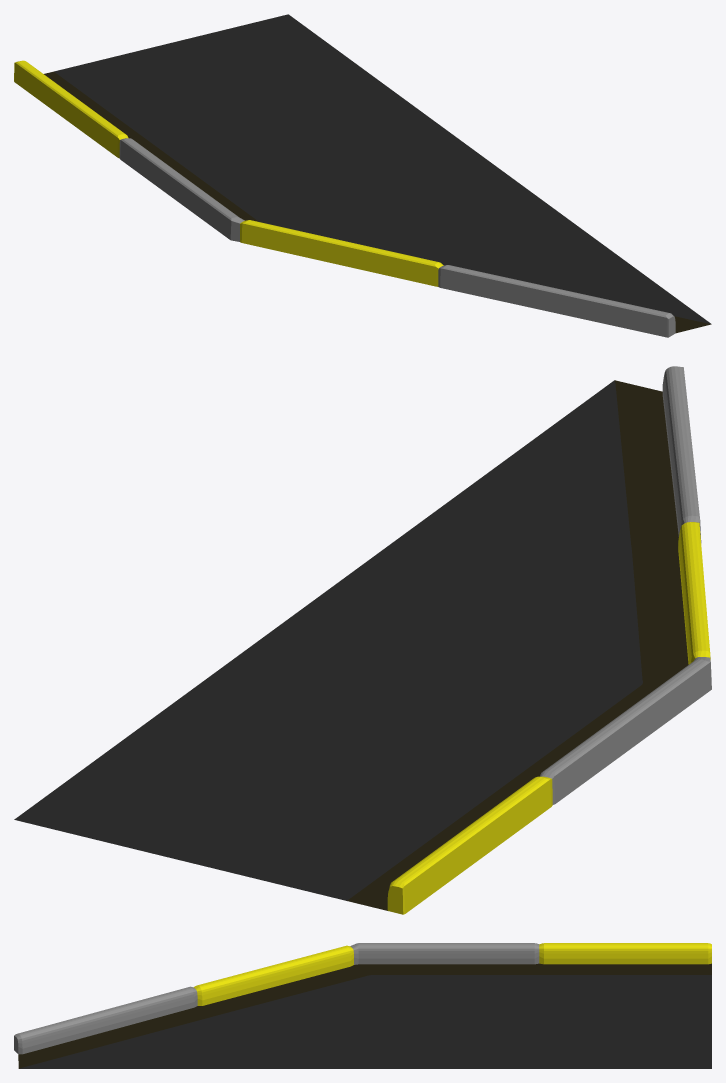
File: Black.Yellow.Curb.Extension.002.fbx
The picture shows the model from 3 angles, top to bottom: view 1: azimuth 30°, elevation 25°; view 2: azimuth 150°, elevation 25°; view 3: azimuth 270°, elevation 25°; orthographic projection. The views are drawn at different scales.
Parts seen in each view (by area): view 1: Black.Yellow.Curb.Extention.001; view 2: Black.Yellow.Curb.Extention.001; view 3: Black.Yellow.Curb.Extention.001.
Boxes of the visible parts, x1,y1,x2,y2 form: Black.Yellow.Curb.Extention.001: [14, 14, 711, 337]; Black.Yellow.Curb.Extention.001: [14, 366, 711, 914]; Black.Yellow.Curb.Extention.001: [14, 943, 711, 1068].
Size of the model in its own units: 606 by 226 by 16.27.
